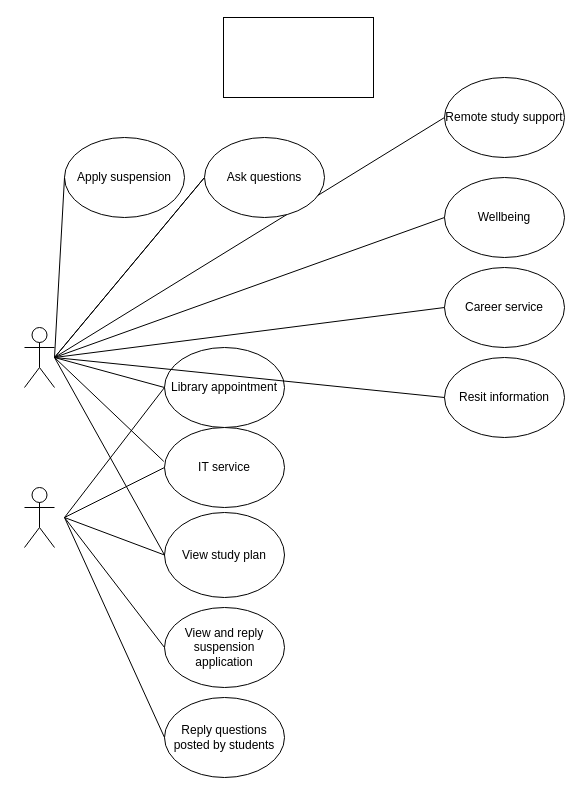
The diagram is 582 pixels wide and 795 high, and some of its shapes have lost their labels. Each missing label, with the centre of its shape:
"Lecturer" goes at pixel 39 517.
"Student" goes at pixel 39 357.
"Support section use case" goes at pixel 298 57.
